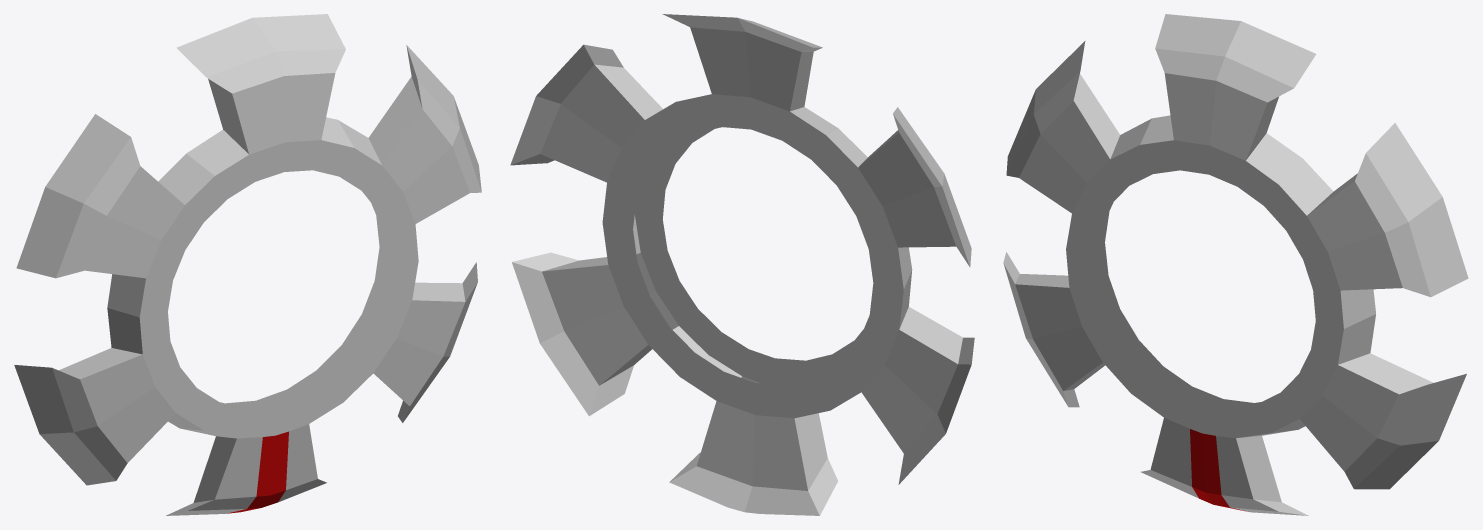
Rendered from Rouage_3.fbx.
3 renders of one model, left to right at view 1: azimuth 30°, elevation 25°; view 2: azimuth 150°, elevation 25°; view 3: azimuth 330°, elevation 25°, orthographic.
Parts seen in each view (by area): view 1: e3; view 2: e3; view 3: e3.
Part boxes in pixels (bbox=[...]): e3: bbox=[14, 14, 481, 515]; e3: bbox=[510, 14, 974, 515]; e3: bbox=[1003, 14, 1468, 515].
Bounding box in the file's own units: 16.9 × 17.16 × 2.16.
